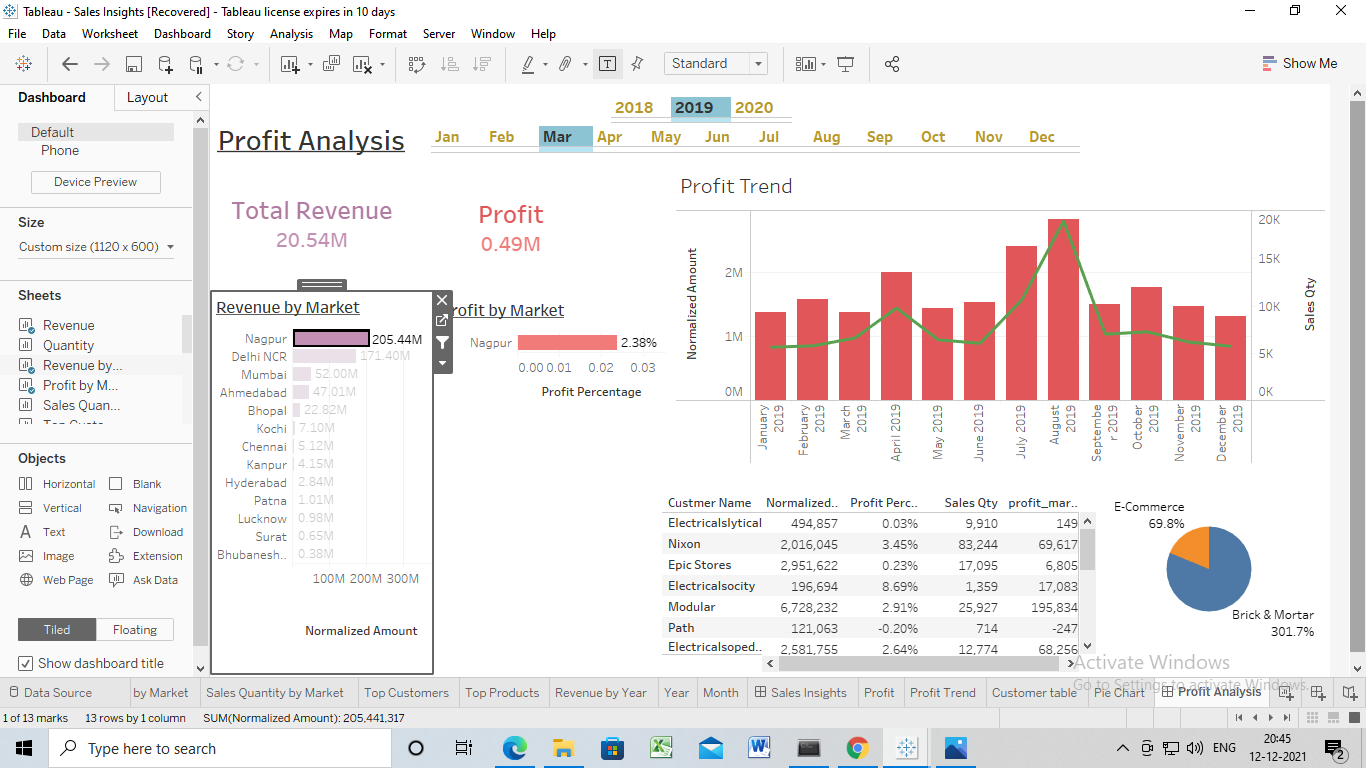

The dashboard page shown, as its layout file describes it:
{"tool":"tableau","page":{"name":"Profit Analysis","canvas":[1120,600],"ordinal":0},"visuals":[{"type":"title","box":[5,13,195,84]},{"type":"worksheet","title":"Year","mark":"Automatic","cols":["cy_date"],"box":[401.2,13,245.4,29]},{"type":"worksheet","title":"Month","mark":"Automatic","cols":["cy_date"],"box":[220.9,42,664.9,29]},{"type":"legend","title":"Profit Trend","param":"[federated.1wrotgx1kiv2ew12km91h0g3ou01].[none:markets_name:nk]","box":[970,62,140,58]},{"type":"worksheet","title":"Profit Trend","mark":"Bar","rows":["Calculation_901001447928795136","sales_qty"],"cols":["cy_date"],"box":[466,83,650,298]},{"type":"worksheet","title":"Revenue","mark":"Automatic","box":[12.2,108,184.3,61]},{"type":"worksheet","title":"Profit","mark":"Automatic","box":[261,112,102,68]},{"type":"worksheet","title":"Revenue by Market","mark":"Automatic","rows":["markets_name"],"cols":["Calculation_901001447928795136"],"box":[2,208,219.9,381]},{"type":"worksheet","title":"Profit by Market","mark":"Automatic","rows":["markets_name"],"cols":["Calculation_541839377881427968"],"box":[227,211,229,365]},{"type":"worksheet","title":"Pie Chart","mark":"Pie","box":[893,400,212,170]},{"type":"worksheet","title":"Customer table","mark":"Automatic","rows":["custmer_name"],"box":[452,408,434,180]}]}

Visuals, with their boxes on the page's 1120x600 design canvas (x1, y1, x2, y2). These are canvas units, not pixel positions in the 1366x768 screenshot, which may show the page scaled, cropped or inside an application window:
title: region(5, 13, 200, 97)
"Year" worksheet: region(401, 13, 647, 42)
"Month" worksheet: region(221, 42, 886, 71)
"Profit Trend" legend: region(970, 62, 1110, 120)
"Profit Trend" worksheet (Bar marks): region(466, 83, 1116, 381)
"Revenue" worksheet: region(12, 108, 196, 169)
"Profit" worksheet: region(261, 112, 363, 180)
"Revenue by Market" worksheet: region(2, 208, 222, 589)
"Profit by Market" worksheet: region(227, 211, 456, 576)
"Pie Chart" worksheet (Pie marks): region(893, 400, 1105, 570)
"Customer table" worksheet: region(452, 408, 886, 588)
